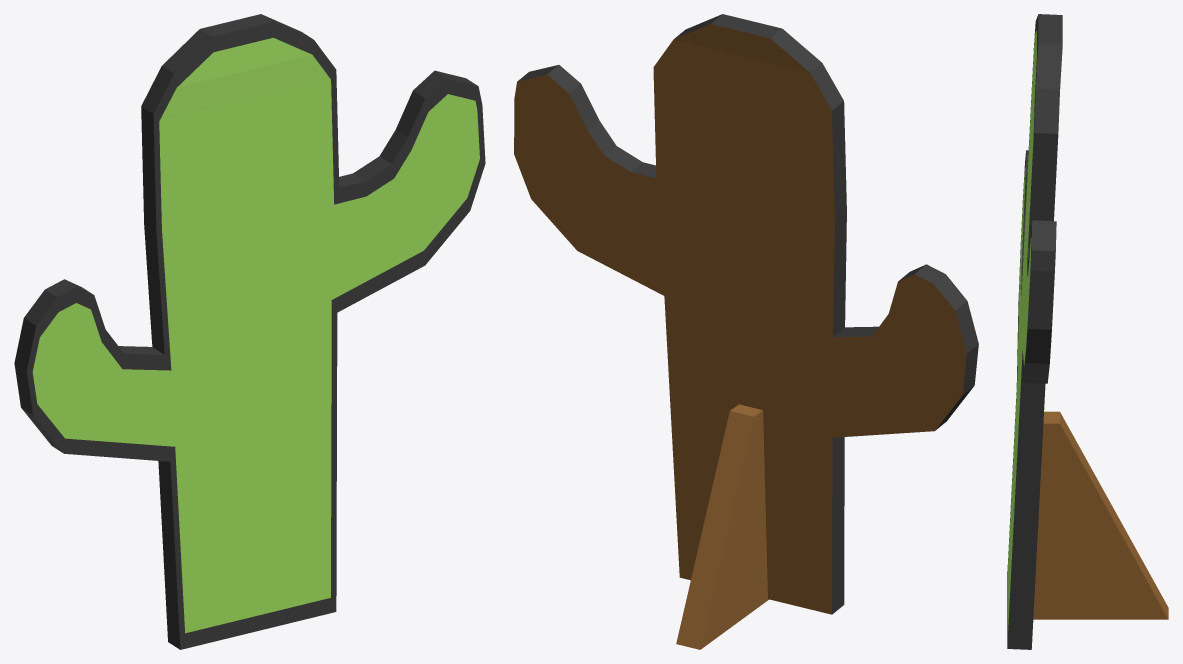
The model's file is cutoutTallCactus.fbx.
3 renders of one model, left to right at view 1: azimuth 30°, elevation 25°; view 2: azimuth 150°, elevation 25°; view 3: azimuth 270°, elevation 25°, orthographic. The views are drawn at different scales.
Visible parts, largest first — view 1: Cutout Tall Cactus; view 2: Cutout Tall Cactus; view 3: Cutout Tall Cactus.
Boxes of the visible parts, x1,y1,x2,y2 form: Cutout Tall Cactus: (14,14,485,649); Cutout Tall Cactus: (514,14,978,649); Cutout Tall Cactus: (1007,14,1168,649).
Bounding box in the file's own units: 149 × 45.79 × 183.
